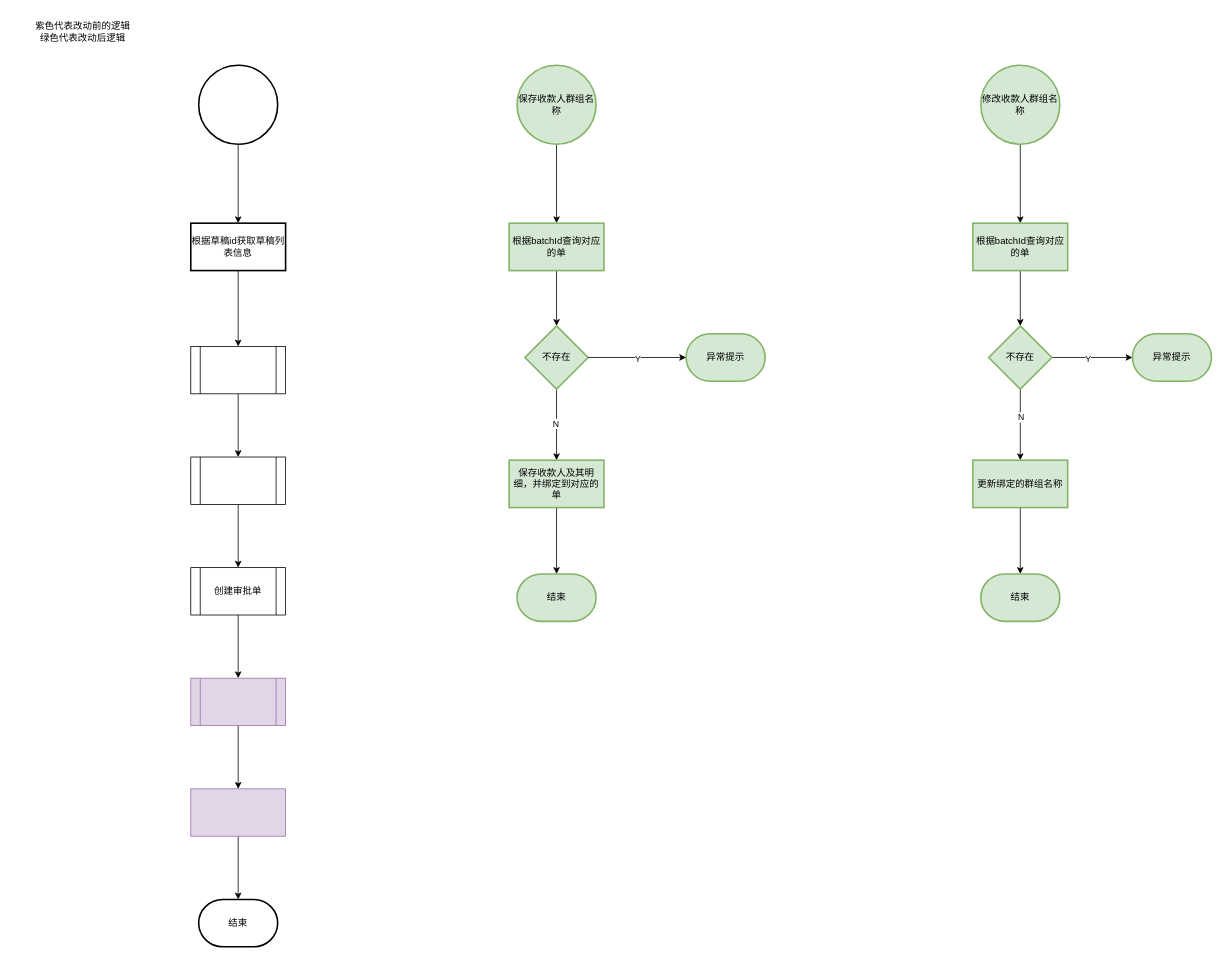
This 1225x961 diagram has some shape labels left out. Here are the shapes that lost their labels. From the top down, the centre of each, then its label:
[238,104]: 批量转账提交
[238,370]: 转账前置校验
[238,480]: 创建批量转账聚合保存
[238,701]: 创建群组保存
[238,812]: 群组绑定到批量转账
